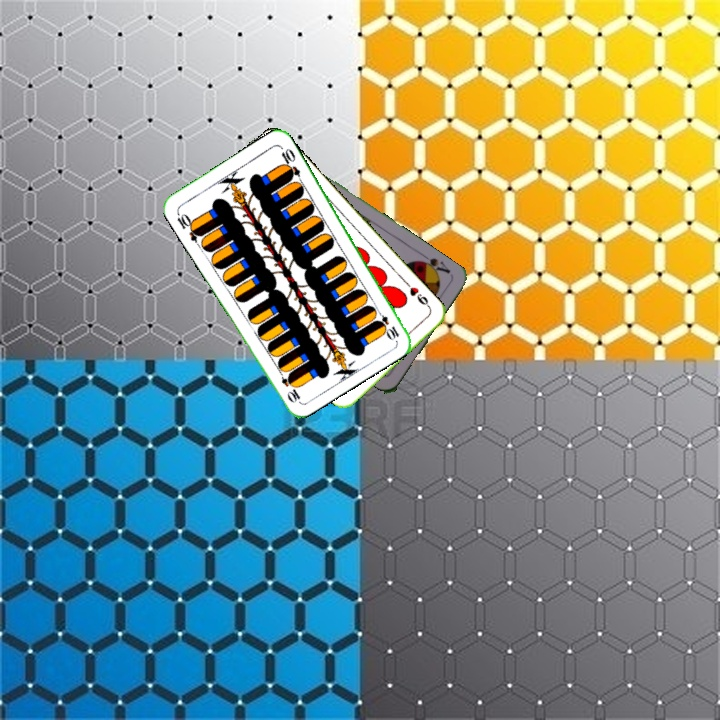E10: (173, 208, 204, 244), (372, 305, 402, 342)
H9: (402, 278, 433, 312)
SA: (415, 250, 453, 279)
